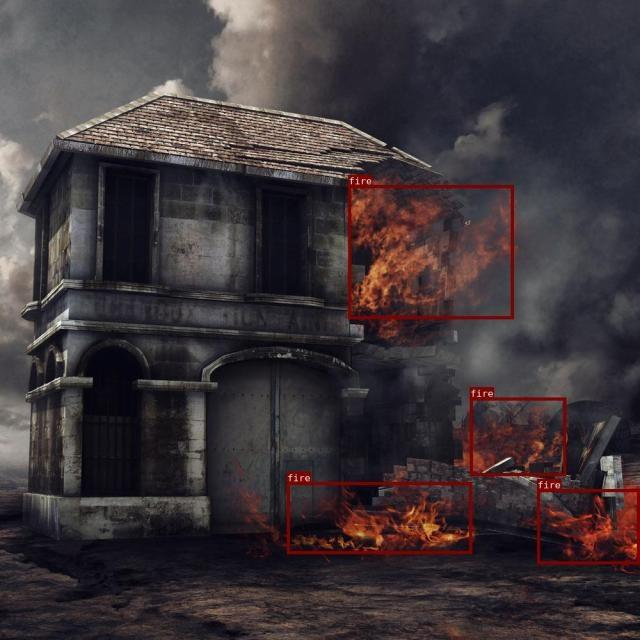fire: (348, 185, 513, 318), (286, 482, 472, 554), (536, 489, 639, 563), (469, 397, 566, 475)
